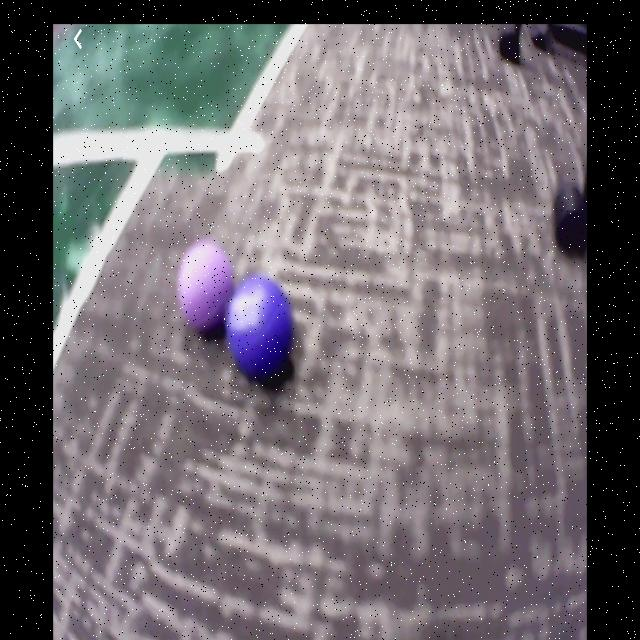ball: (228, 278, 297, 379), (178, 246, 232, 334)
